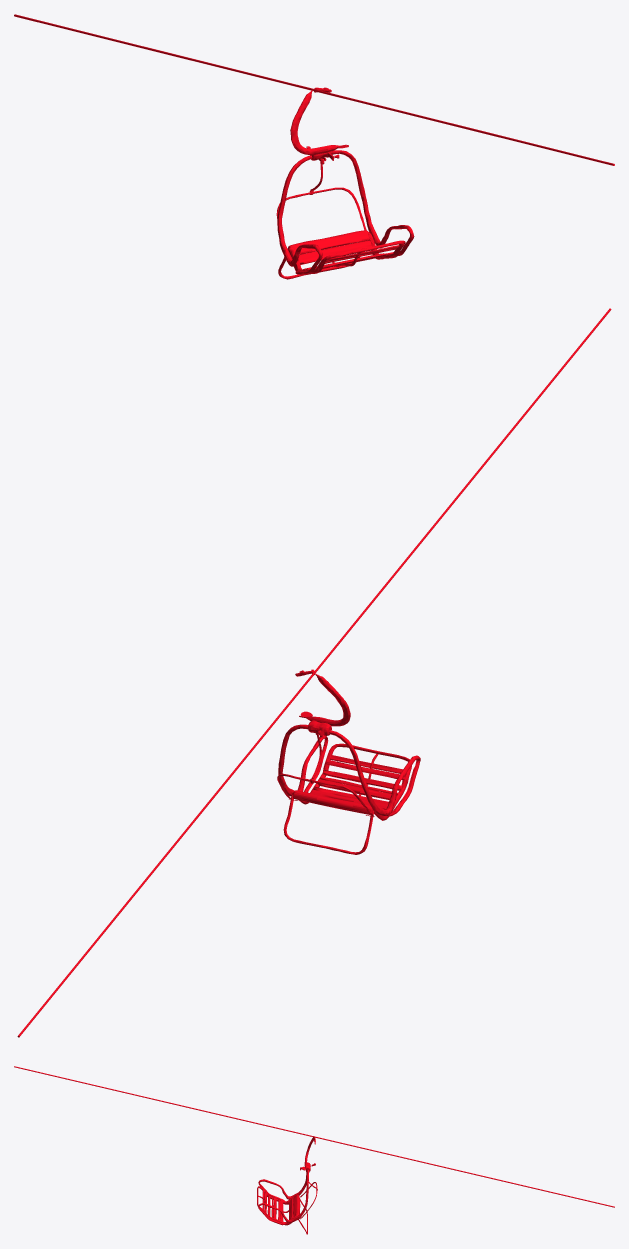
Rendered from park_liftChair.glb.
The picture shows the model from 3 angles, top to bottom: view 1: azimuth 30°, elevation 25°; view 2: azimuth 150°, elevation 25°; view 3: azimuth 270°, elevation 25°; orthographic projection. The views are drawn at different scales.
Parts seen in each view (by area): view 1: park_liftChair; view 2: park_liftChair; view 3: park_liftChair.
Boxes of the visible parts, x1=… form: park_liftChair: x1=14, y1=14, x2=614, y2=279; park_liftChair: x1=17, y1=308, x2=611, y2=1037; park_liftChair: x1=14, y1=1066, x2=614, y2=1234.
Size of the model in its own units: 0.1233 by 0.3933 by 1.32.
